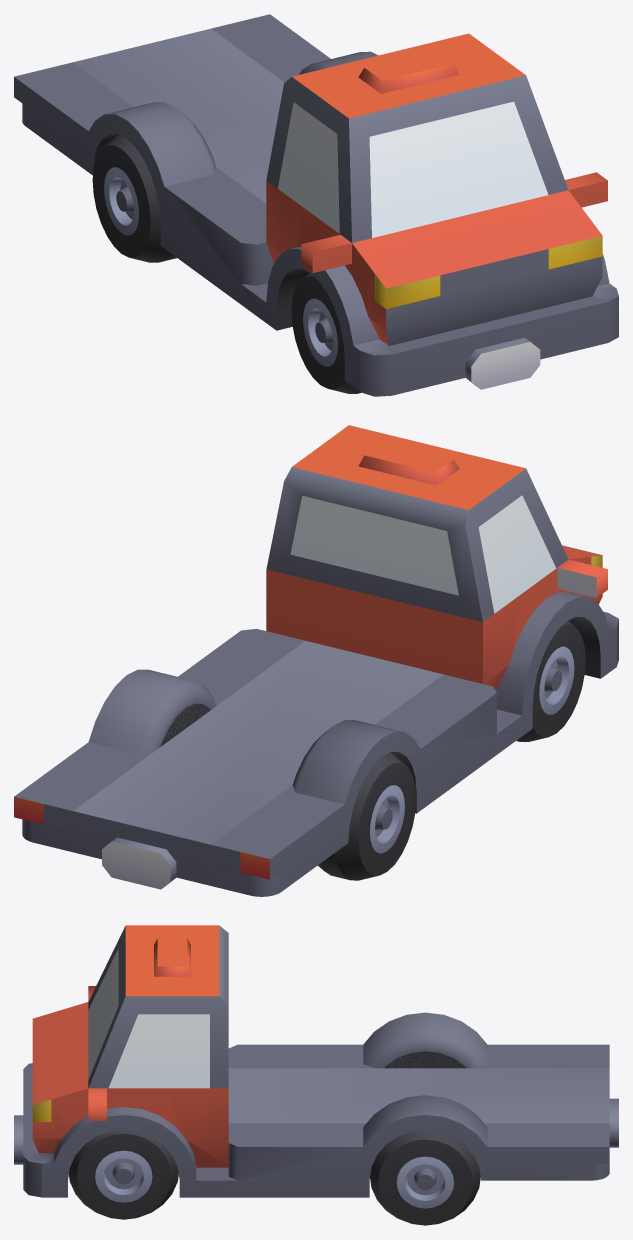
Rendered from delivery-flat.glb.
The picture shows the model from 3 angles, top to bottom: view 1: azimuth 30°, elevation 25°; view 2: azimuth 150°, elevation 25°; view 3: azimuth 270°, elevation 25°; orthographic projection. The views are drawn at different scales.
Visible parts, largest first — view 1: body, wheel-back-right, wheel-front-right; view 2: body, wheel-back-right, wheel-front-right; view 3: body, wheel-back-left, wheel-front-left.
Boxes of the visible parts, <box> form: body: <box>14,14,618,396</box>; wheel-back-right: <box>92,134,176,262</box>; wheel-front-right: <box>291,272,361,393</box>; body: <box>14,425,618,896</box>; wheel-back-right: <box>318,752,416,880</box>; wheel-front-right: <box>516,621,585,741</box>; body: <box>14,925,618,1197</box>; wheel-back-left: <box>370,1130,480,1225</box>; wheel-front-left: <box>69,1130,178,1219</box>.
Bounding box in the file's own units: 1.5 × 1.35 × 3.25.
Materials: 1 (1 with a texture image).
